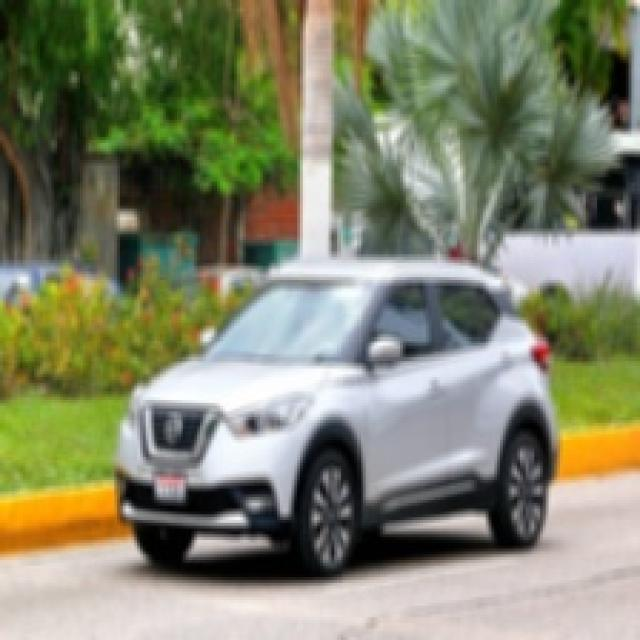car: (109, 245, 545, 569)
